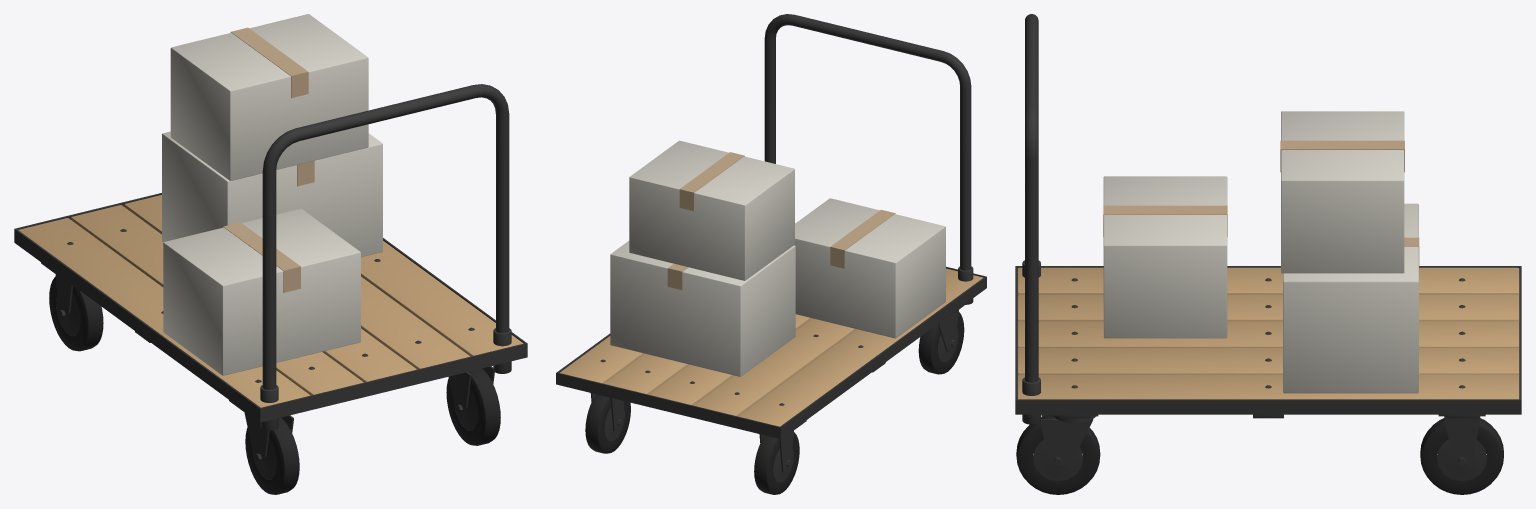
Rendered from Kit_PlatformTruck_Cartons.fbx.
3 views of the same model, side by side, from view 1: azimuth 30°, elevation 25°; view 2: azimuth 150°, elevation 25°; view 3: azimuth 270°, elevation 25° (orthographic). The views are drawn at different scales.
Visible parts, largest first — view 1: Kit_PlatformTruck_Cartons_LOD0; view 2: Kit_PlatformTruck_Cartons_LOD0; view 3: Kit_PlatformTruck_Cartons_LOD0.
Boxes of the visible parts, x1,y1,x2,y2 form: Kit_PlatformTruck_Cartons_LOD0: [14, 14, 527, 494]; Kit_PlatformTruck_Cartons_LOD0: [556, 14, 986, 494]; Kit_PlatformTruck_Cartons_LOD0: [1015, 14, 1521, 494].
Size of what is drawn, in the model's own units: 0.7716 by 1.02 by 1.23.
